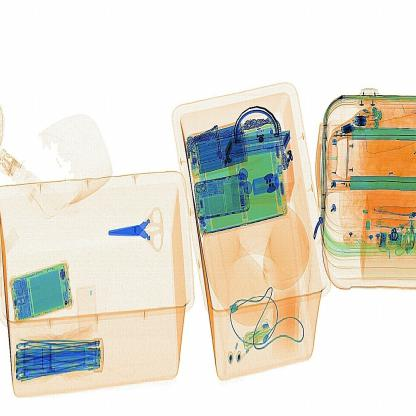gun: (104, 206, 166, 256)
